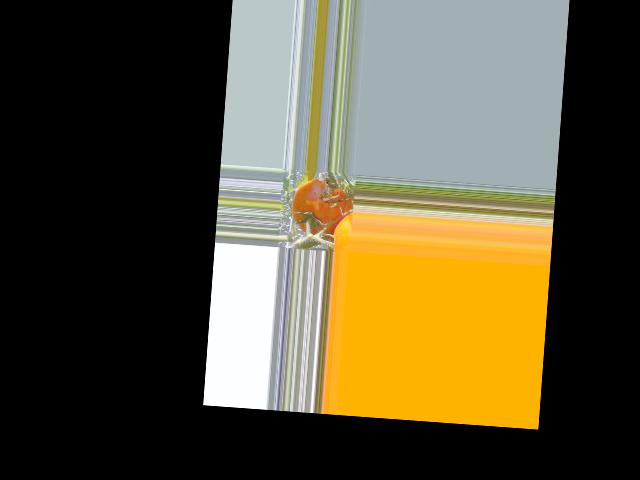tomato: (289, 176, 354, 237)
